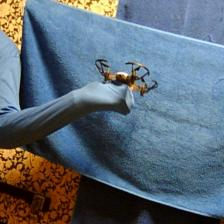drone: (93, 57, 159, 94)
